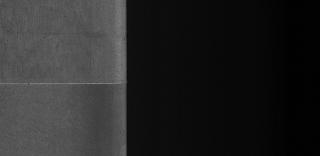welding line: (2, 78, 138, 90)
